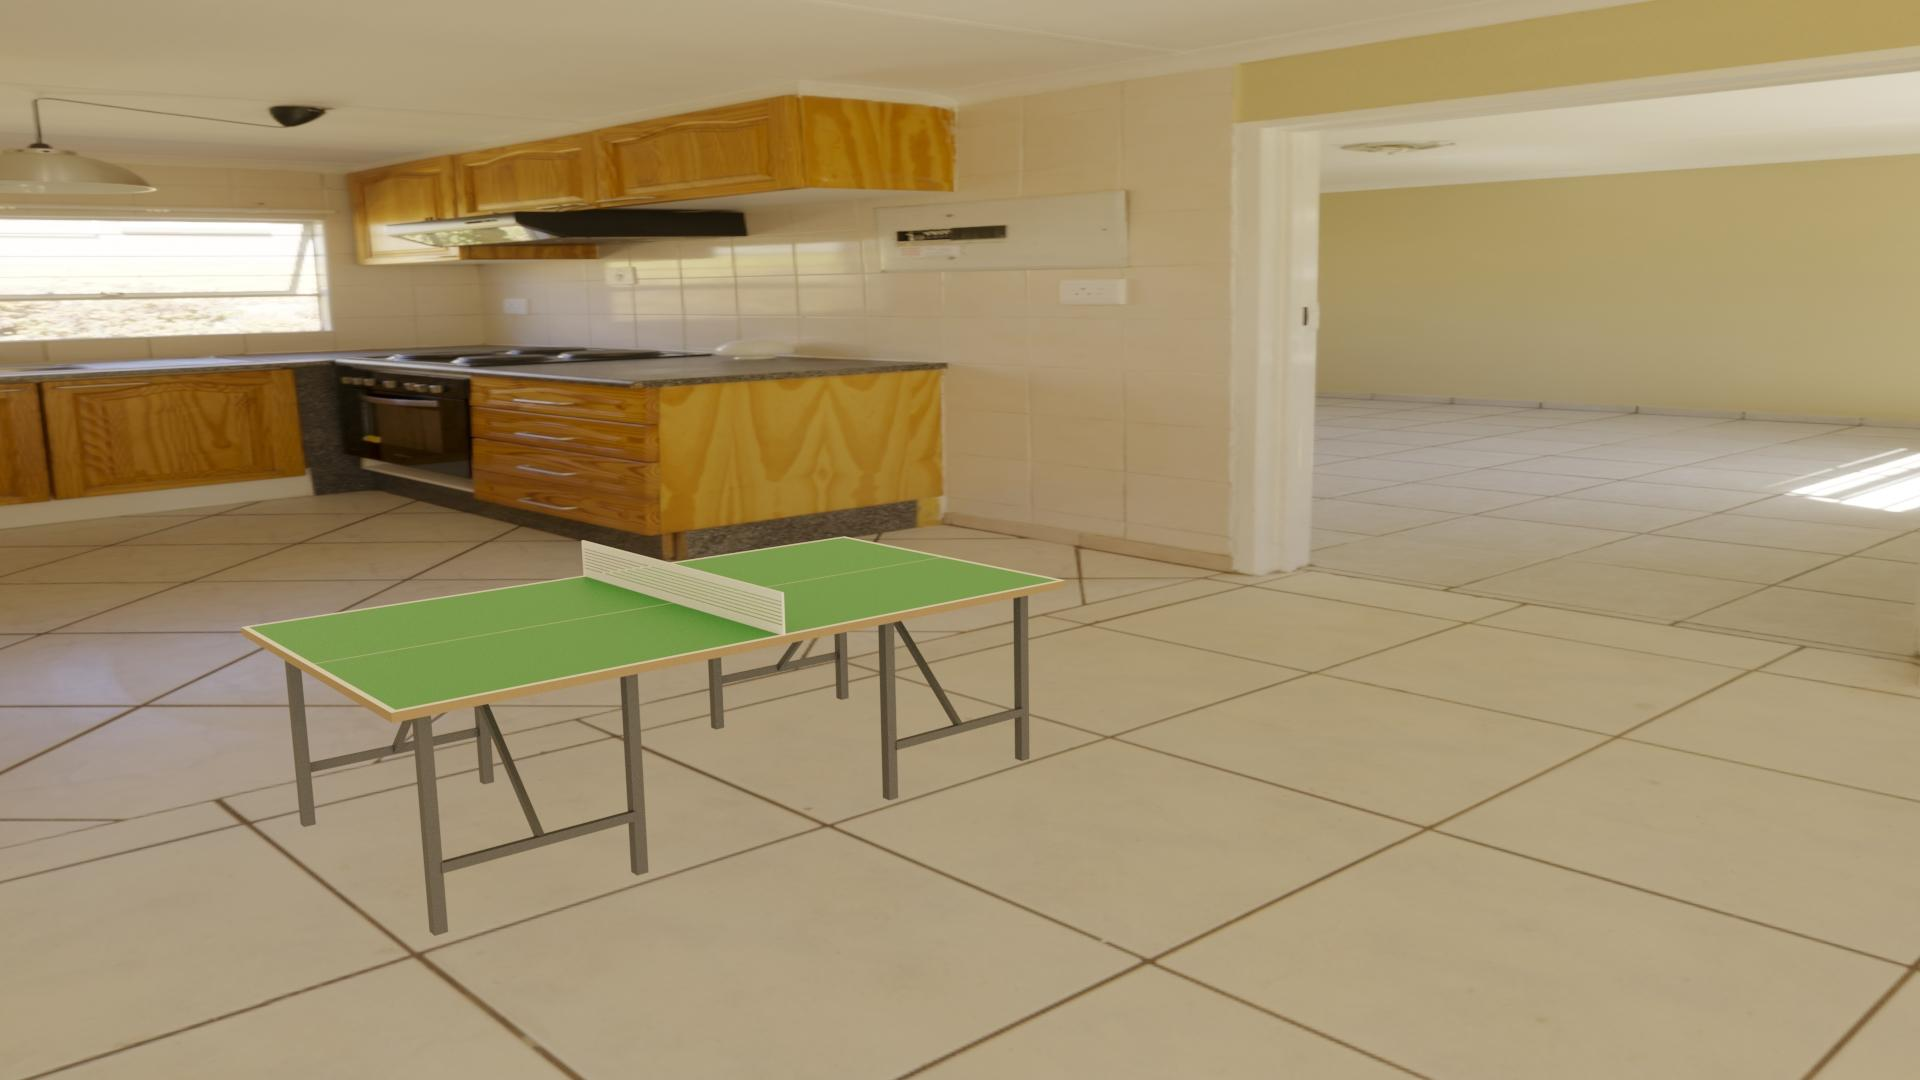table: (249, 538, 1059, 709)
